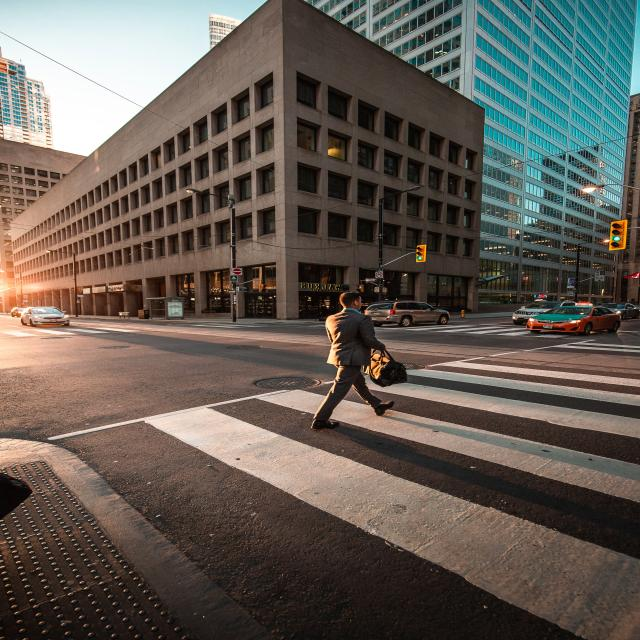adult: (307, 291, 403, 428)
